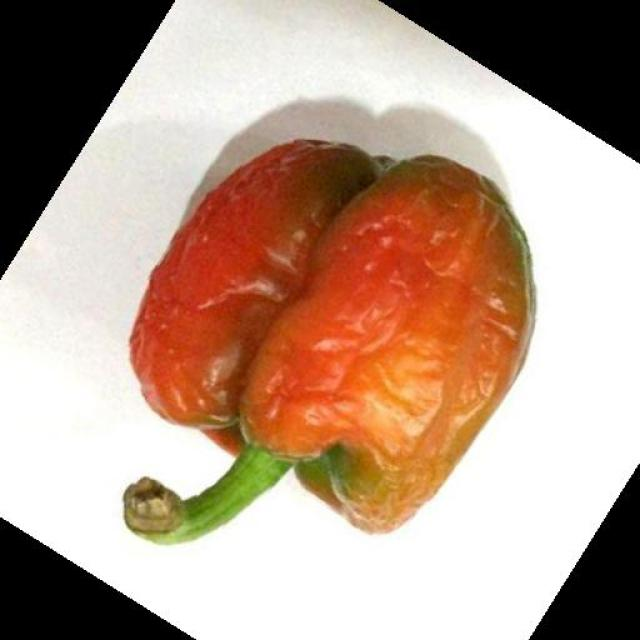Stale_Capsicum: (124, 111, 530, 525)
